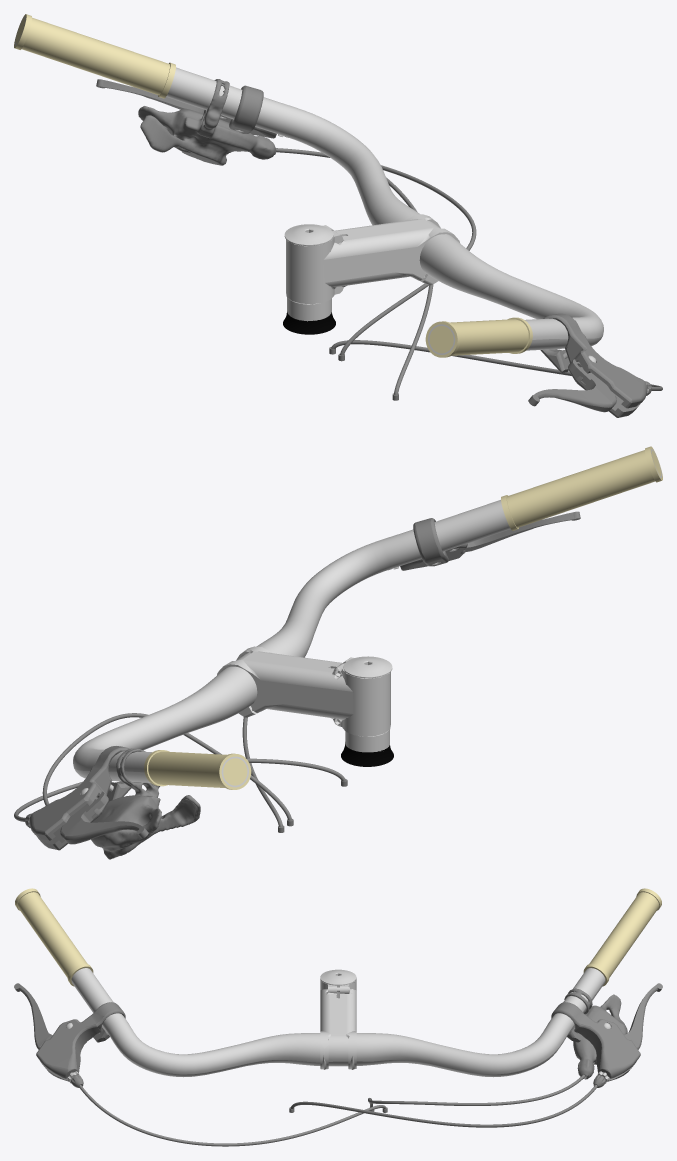
The model's file is Handle6_Cruiser_Shifter.glb.
3 views of the same model, one above another, from view 1: azimuth 30°, elevation 25°; view 2: azimuth 150°, elevation 25°; view 3: azimuth 270°, elevation 25° (orthographic). The views are drawn at different scales.
Visible parts, largest first — view 1: no_transformations (×6); view 2: no_transformations (×6); view 3: no_transformations (×5).
Part boxes in pixels (bbox=[...]): no_transformations (×6): bbox=[14, 14, 662, 417]; no_transformations (×6): bbox=[14, 446, 662, 859]; no_transformations (×5): bbox=[14, 888, 662, 1146].
Bounding box in the file's own units: 247 × 188 × 625.
